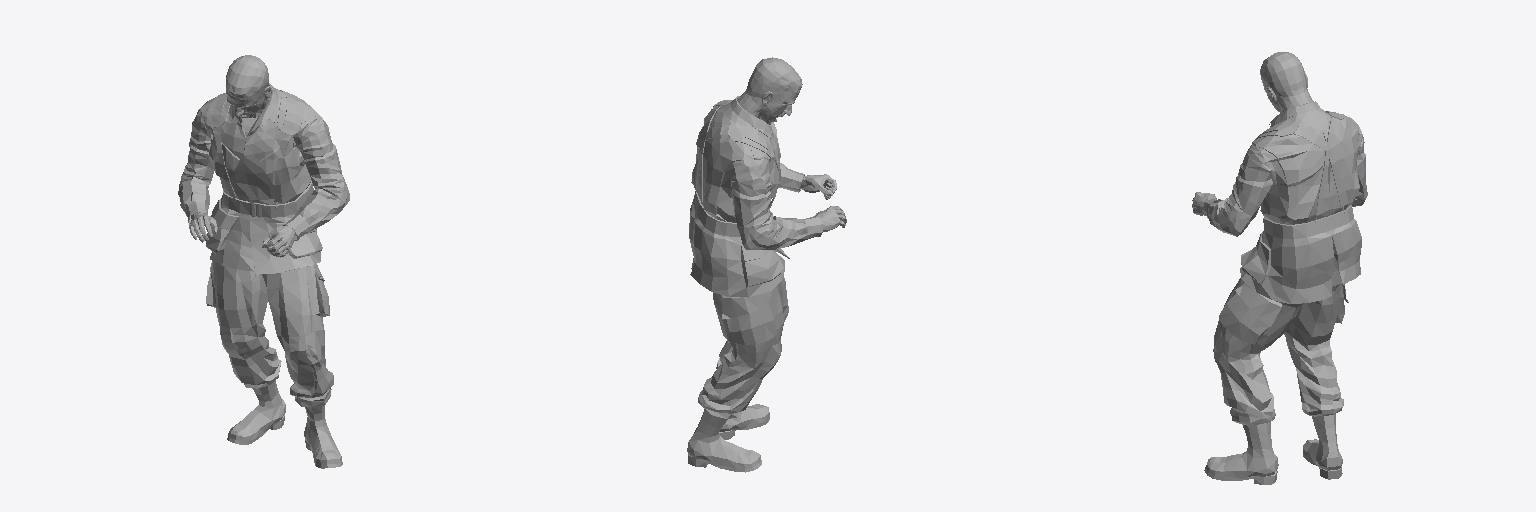
The model's file is onlyManWith.obj.
3 renders of one model, left to right at view 1: azimuth 30°, elevation 25°; view 2: azimuth 150°, elevation 25°; view 3: azimuth 270°, elevation 25°, orthographic.
Visible parts, largest first — view 1: DrawCall_0052, DrawCall_0055, DrawCall_0051; view 2: DrawCall_0052, DrawCall_0055, DrawCall_0051; view 3: DrawCall_0052, DrawCall_0055.
Part boxes in pixels (x1,y1,x2,y2): DrawCall_0052: (178,83,349,468); DrawCall_0055: (226,55,270,118); DrawCall_0051: (189,212,296,257); DrawCall_0052: (687,96,822,472); DrawCall_0055: (737,57,802,124); DrawCall_0051: (800,174,846,231); DrawCall_0052: (1202,101,1367,484); DrawCall_0055: (1260,52,1313,112).
Bounding box in the file's own units: 68.11 × 182 × 73.01.